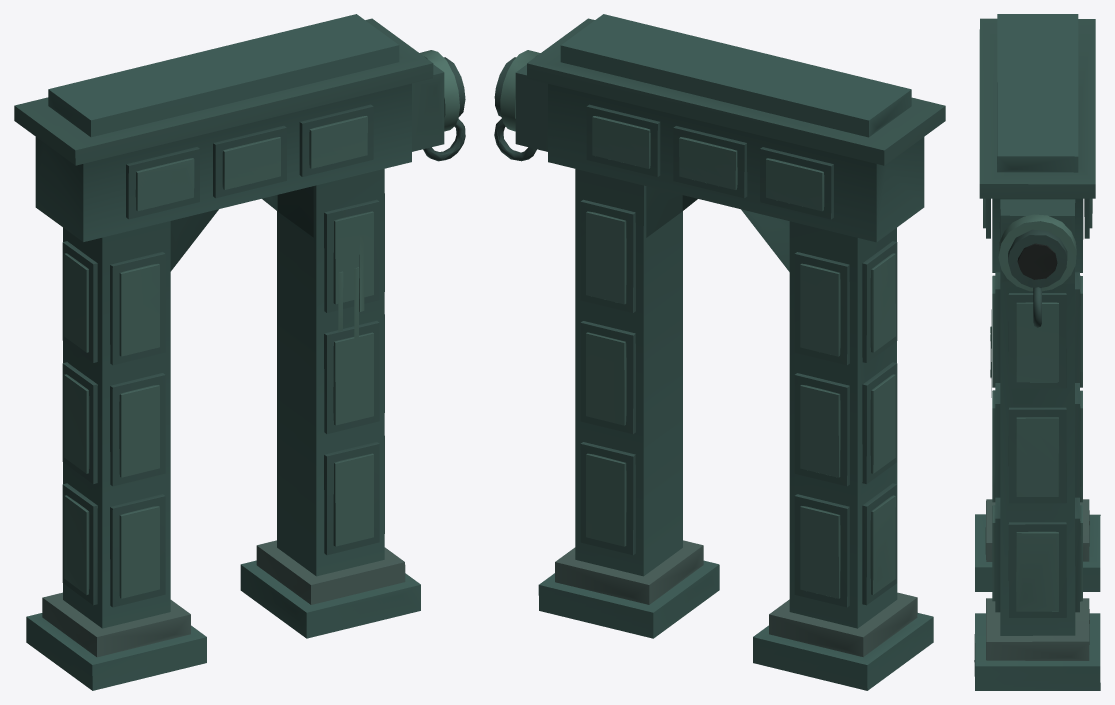
The model's file is intake_gantry_a_lod2.glb.
The picture shows the model from 3 angles, left to right: view 1: azimuth 30°, elevation 25°; view 2: azimuth 150°, elevation 25°; view 3: azimuth 270°, elevation 25°; orthographic projection. The views are drawn at different scales.
Visible parts, largest first — view 1: Surface.001; view 2: Surface.001; view 3: Surface.001.
Part boxes in pixels (x1,y1,x2,y2): Surface.001: (14, 14, 465, 690); Surface.001: (494, 14, 945, 690); Surface.001: (974, 14, 1100, 690).
Size of the model in its own units: 14.53 by 18.5 by 3.98.
